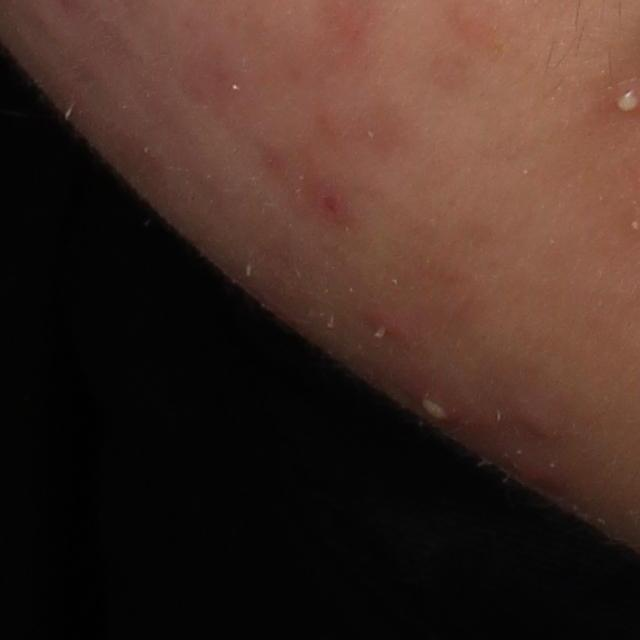pustule: (415, 388, 456, 428)
